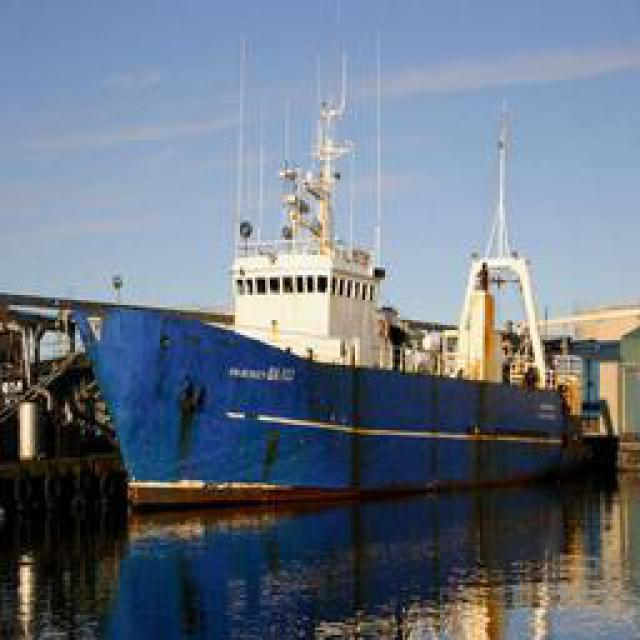Ship: (66, 23, 622, 517)
